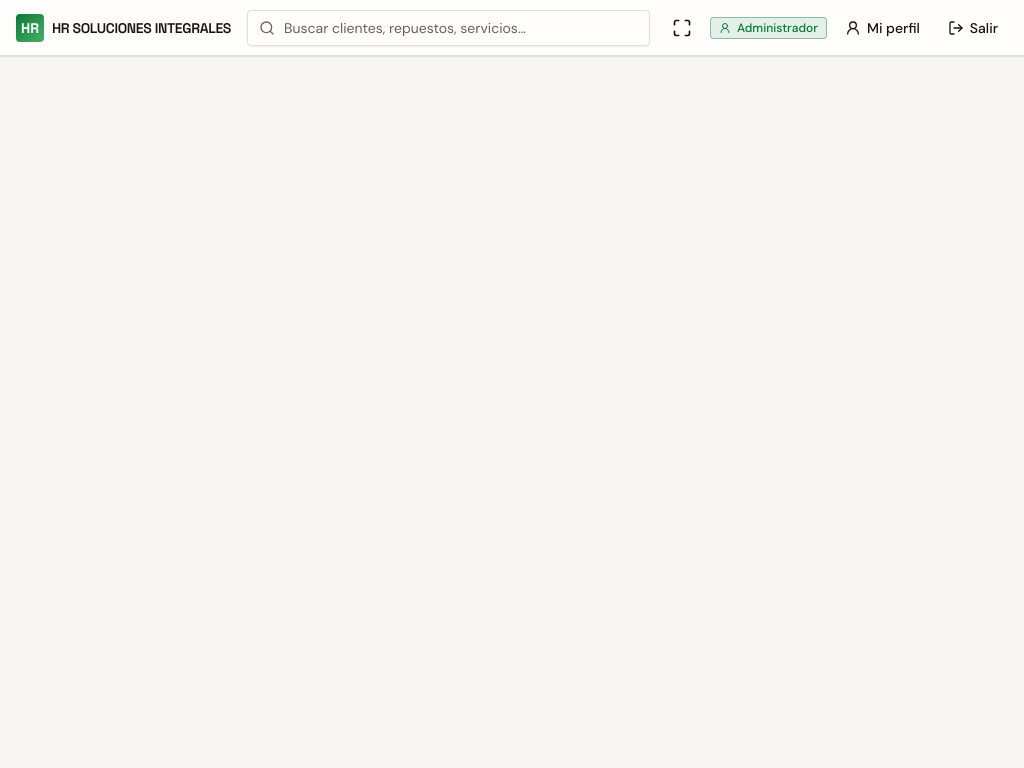
it: AppHeader › shows the admin role badge and a logout control when authenticated
Expected: the element with test id "header.role_badge" reads "Administrador", x1=737 y1=20 x2=818 y2=36
Click the button with test id "header.logout_button": (973, 28) x1=938 y1=12 x2=1008 y2=44
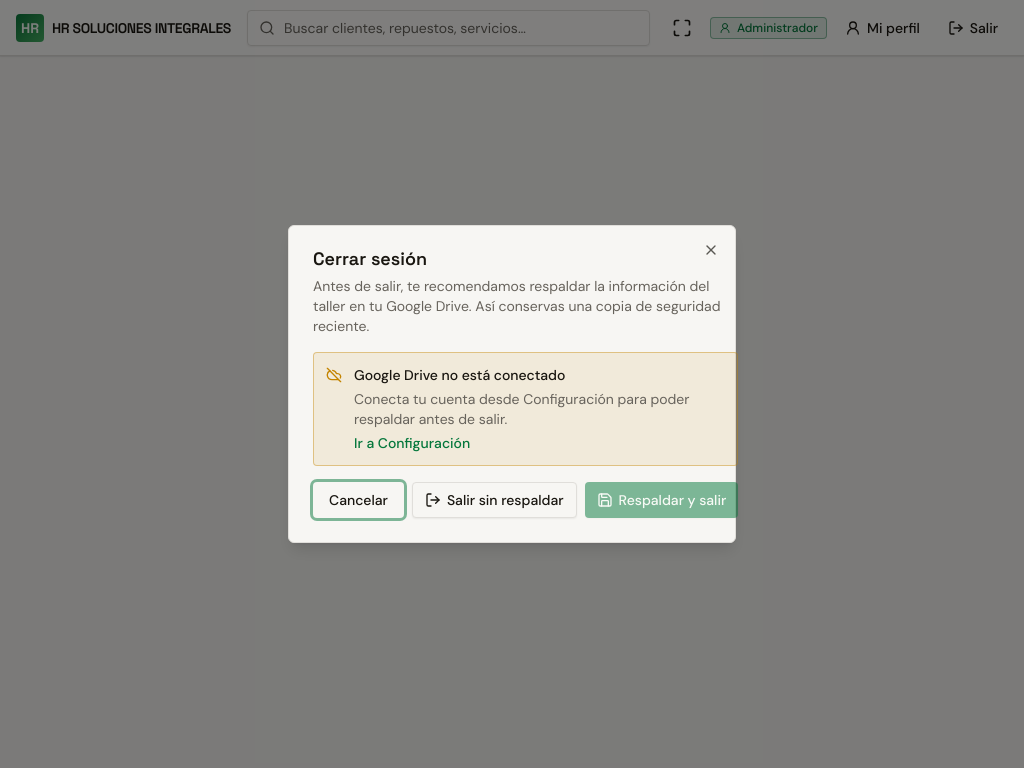
Expected: the dialog with test id "exit_session.dialog" is shown, x1=288 y1=225 x2=736 y2=543
